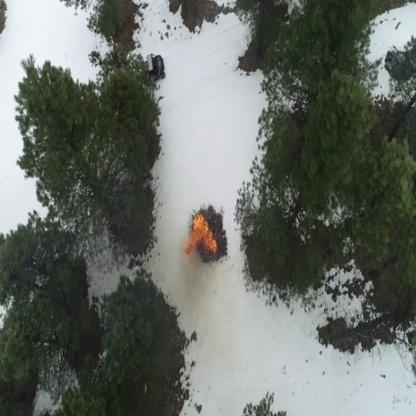Fire: (183, 211, 217, 258)
